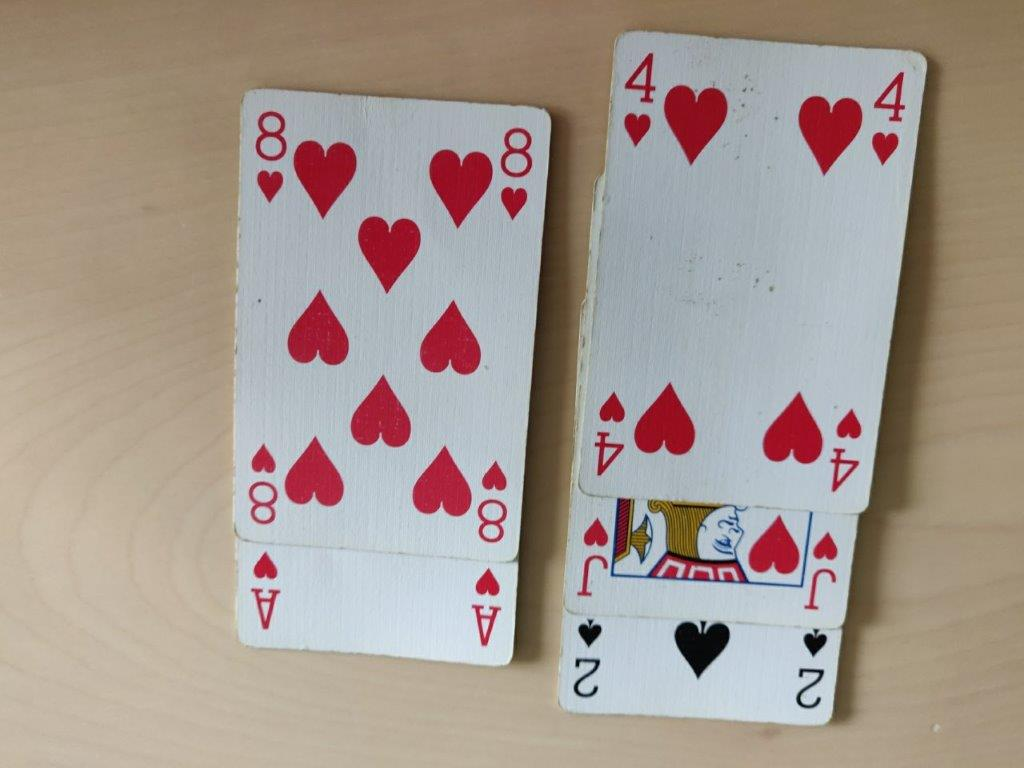4H: (620, 39, 663, 161), (869, 60, 912, 182)
8H: (246, 100, 293, 207), (496, 122, 543, 229)
